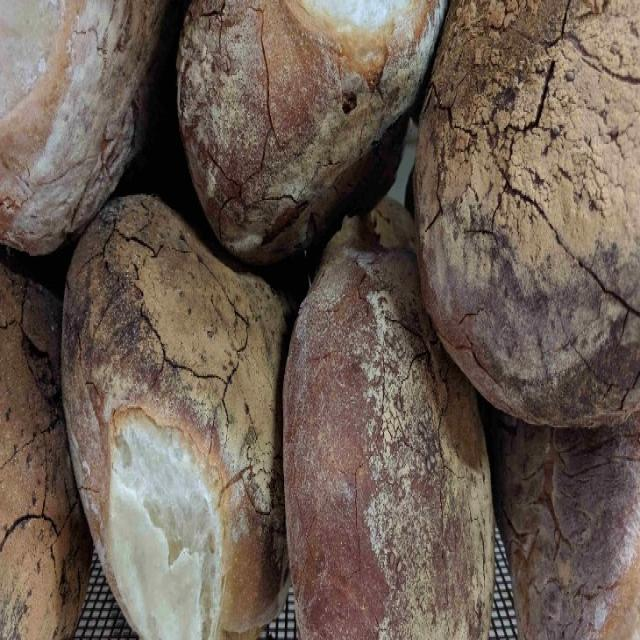Maltese-Bread: (62, 194, 295, 638), (415, 0, 639, 426), (283, 200, 494, 638), (179, 0, 447, 262)
